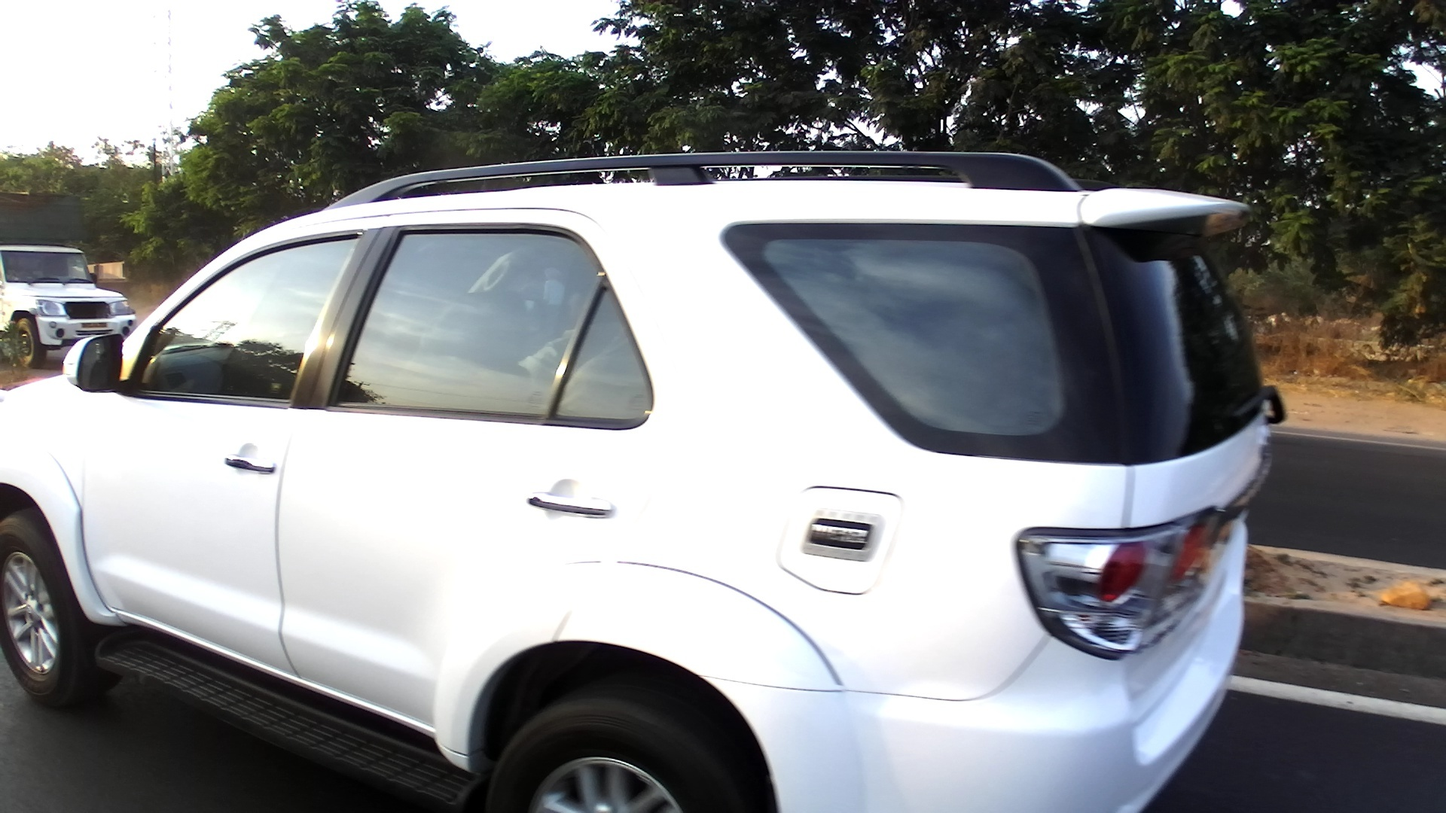car: (1, 150, 1288, 813)
truck: (2, 190, 135, 370)
